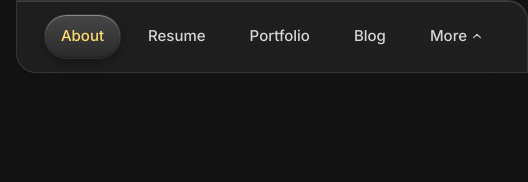
Test case: Navbar More menu › closes the More menu after choosing a page and flags More as active
Click the button "More" at (456, 36), box [414,15,499,58]
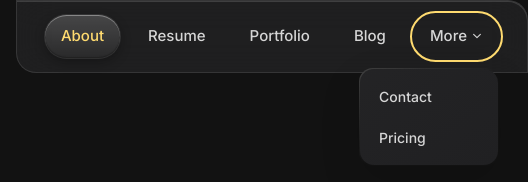
Click the link "Pricing" at (402, 137), box [379,128,426,146]
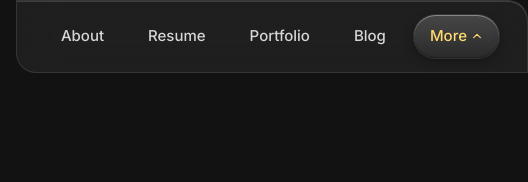
Now the button "More" is collapsed, box [414,15,499,58]
